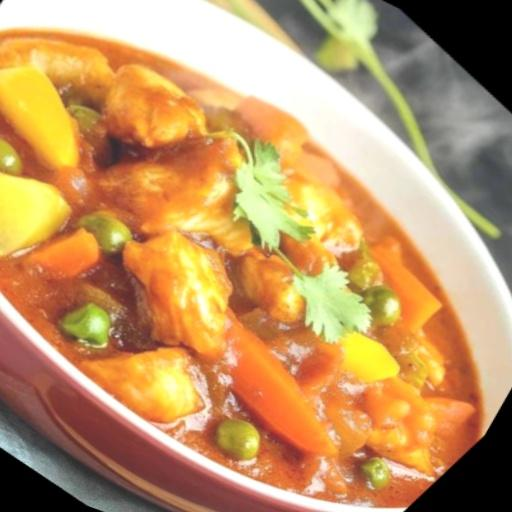pork caldereta: (0, 31, 490, 504)
